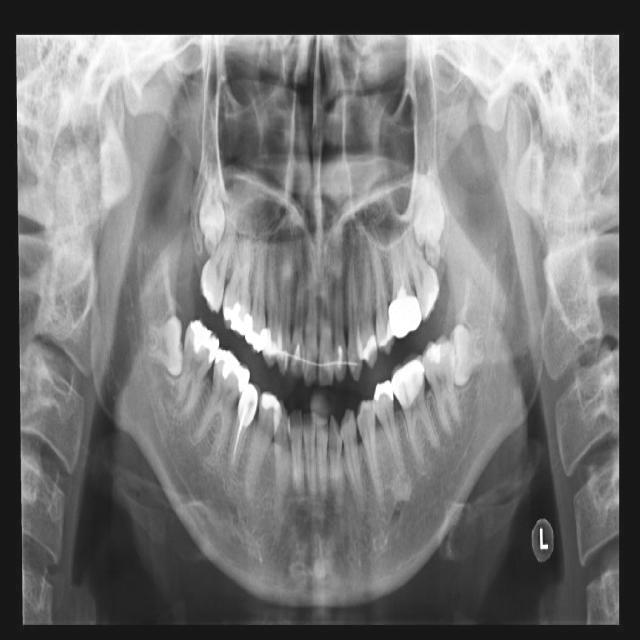Crown: (388, 296, 422, 338), (238, 382, 261, 429)
Filling: (214, 346, 250, 402), (391, 352, 425, 410), (184, 318, 219, 367), (223, 296, 252, 338), (258, 392, 282, 436), (245, 313, 267, 354), (262, 326, 282, 368), (422, 341, 444, 370), (360, 333, 377, 362), (374, 378, 396, 400), (379, 319, 393, 349)
Periapical lesion: (391, 471, 413, 500), (441, 421, 458, 447), (458, 423, 465, 432)
Root Canal Treatment: (233, 423, 244, 457)
impacted tooth: (202, 163, 226, 251)
